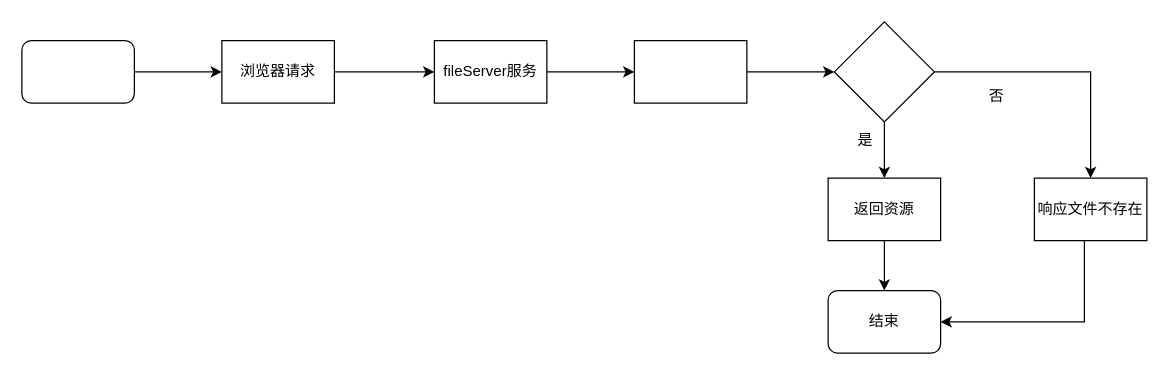
Image size: 1169x375. Some labels were removed from this diagram. Here are the shapes that lost their labels. From the top down, the box of each, then its label:
(21, 39, 134, 103): 开始
(633, 39, 747, 103): brfs客户端
(833, 21, 934, 122): 文件是否存在
